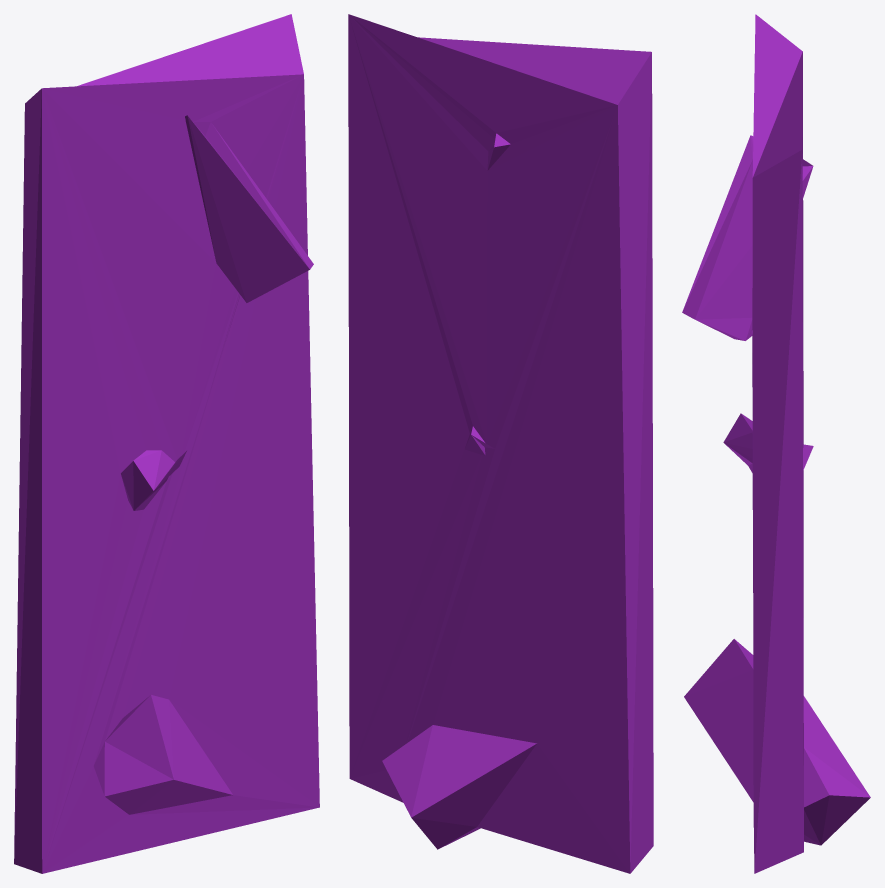
3 renders of one model, left to right at view 1: azimuth 30°, elevation 25°; view 2: azimuth 150°, elevation 25°; view 3: azimuth 270°, elevation 25°, orthographic. The views are drawn at different scales.
Parts seen in each view (by area): view 1: 239_Cube.982; view 2: 239_Cube.982; view 3: 239_Cube.982.
Boxes of the visible parts, x1,y1,x2,y2 form: 239_Cube.982: (14, 14, 319, 873); 239_Cube.982: (348, 14, 653, 873); 239_Cube.982: (682, 14, 870, 873).
Bounding box in the file's own units: 4.71 × 12.92 × 2.94.
